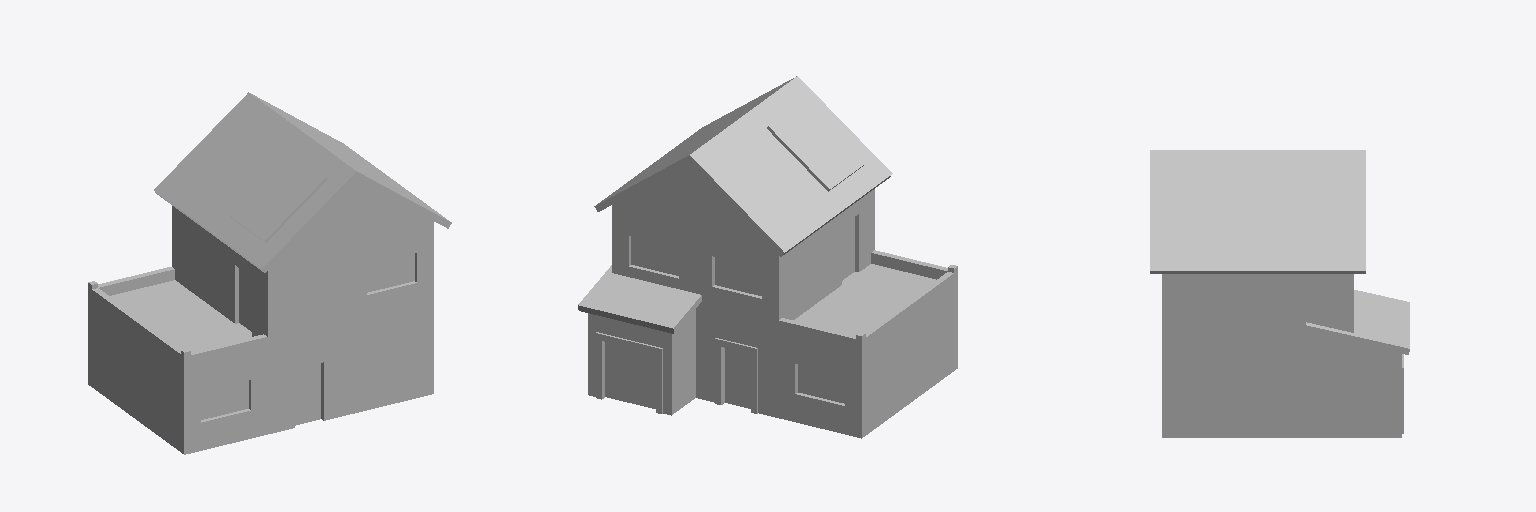
File: house_type11.obj
The picture shows the model from 3 angles: view 1: azimuth 30°, elevation 25°; view 2: azimuth 150°, elevation 25°; view 3: azimuth 270°, elevation 25°; orthographic projection.
Visible parts, largest first — view 1: house_type11; view 2: house_type11; view 3: house_type11.
Boxes of the visible parts, <box> form: house_type11: <box>88,92,451,454</box>; house_type11: <box>578,76,957,438</box>; house_type11: <box>1150,150,1409,437</box>.
Bounding box in the file's own units: 1.26 × 1.14 × 1.09.